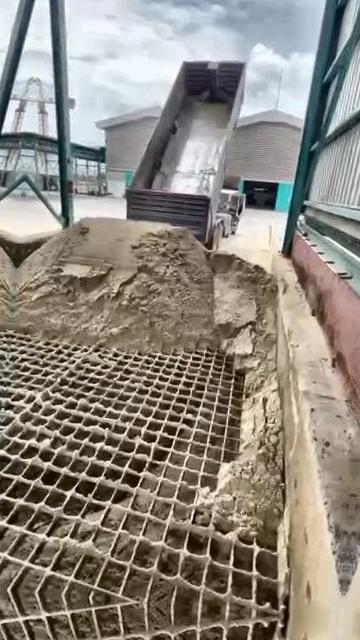sand: (10, 218, 283, 544)
